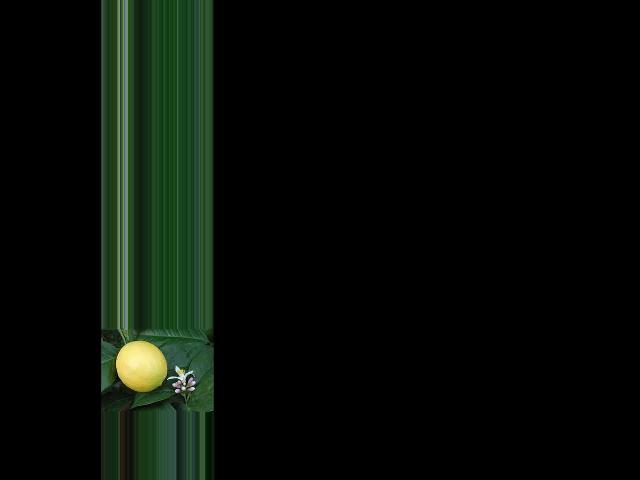lemon: (112, 338, 168, 391)
